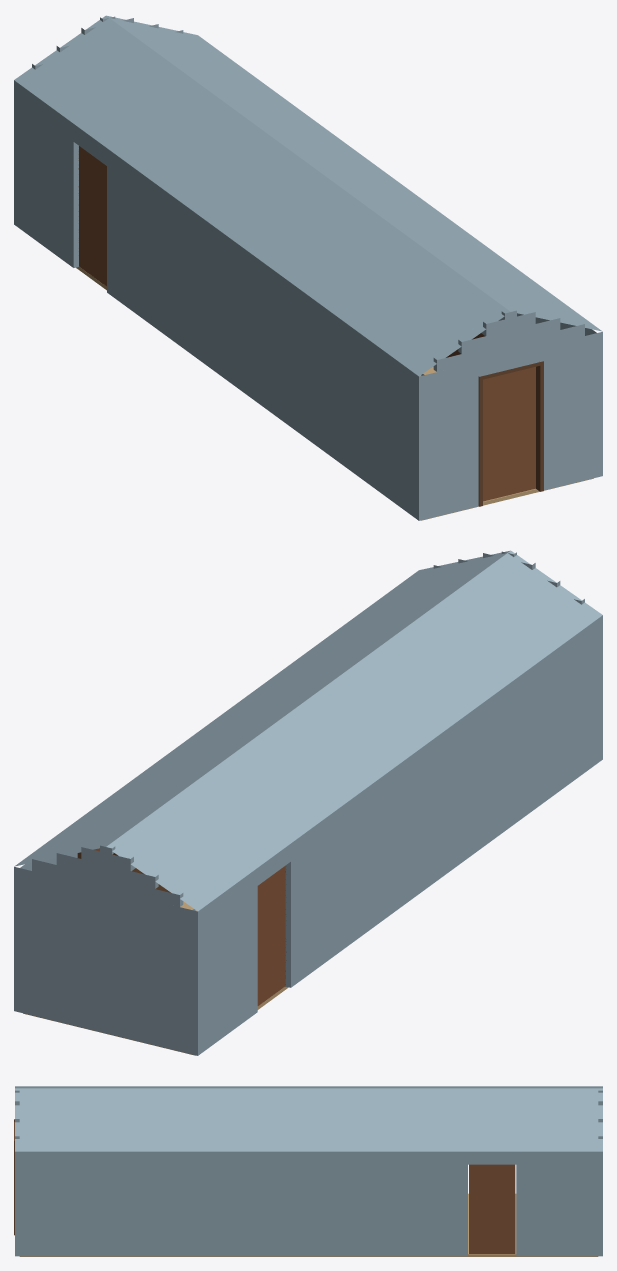
File: room_corridor_attic.glb
The picture shows the model from 3 angles, top to bottom: view 1: azimuth 30°, elevation 25°; view 2: azimuth 150°, elevation 25°; view 3: azimuth 270°, elevation 25°; orthographic projection. The views are drawn at different scales.
Visible parts, largest first — view 1: WALLS, CEILING, DOOR_bath, DOOR_bed_a, FRAMES; view 2: WALLS, CEILING, DOOR_bed_a; view 3: WALLS, CEILING, DOOR_bed_b, FLOOR_visible.
Part boxes in pixels (box(x1,y1,x2,y2)): WALLS: box(14, 16, 602, 520); CEILING: box(14, 15, 602, 376); DOOR_bath: box(483, 367, 535, 501); DOOR_bed_a: box(79, 146, 106, 286); FRAMES: box(78, 151, 543, 506); WALLS: box(14, 551, 602, 1055); CEILING: box(14, 550, 602, 911); DOOR_bed_a: box(257, 865, 285, 1005); WALLS: box(15, 1090, 602, 1256); CEILING: box(15, 1086, 602, 1151); DOOR_bed_b: box(469, 1164, 515, 1253); FLOOR_visible: box(19, 1252, 598, 1256).
Size of the model in its own units: 3.2 by 3.16 by 12.22.
